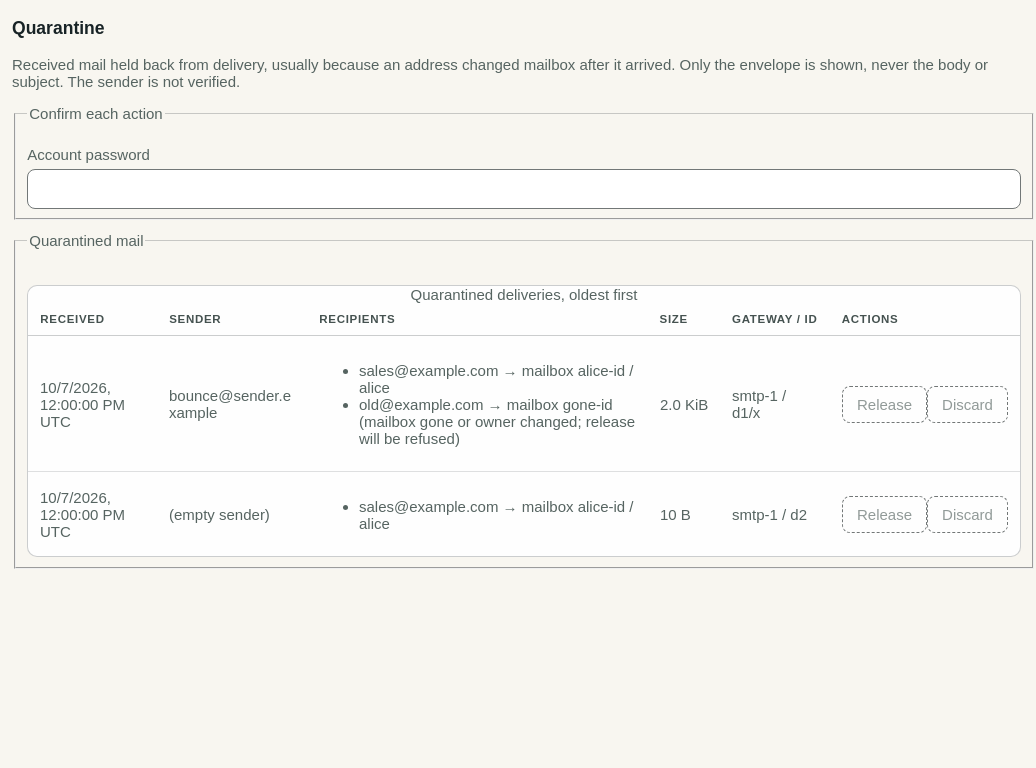
Test case: shows the 409 reason as returned, re-reads and restores controls
expect the text "bounce@sender.example" is shown: met, box top-left (157, 336), bottom-right (307, 472)
Type "account-secret" into the password field labelled "Account password" at (524, 189), box top-left (27, 169), bottom-right (1021, 209)
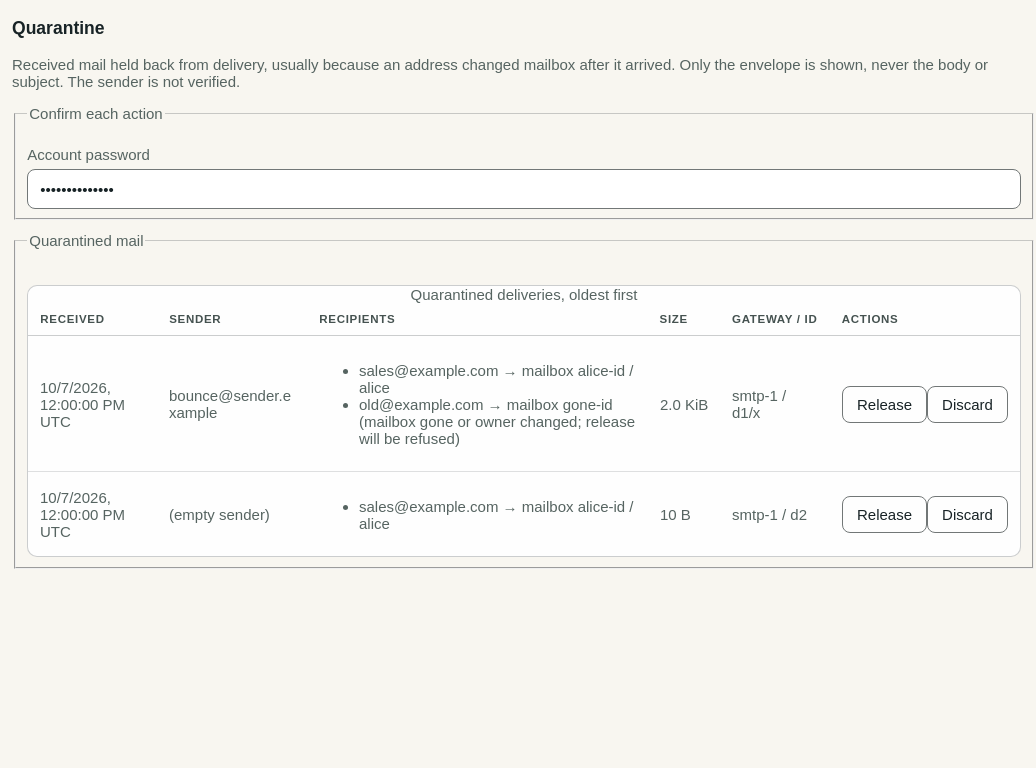
Click the button with aria-label "Release smtp-1 / d1/x" at (884, 404), box top-left (842, 386), bottom-right (927, 422)
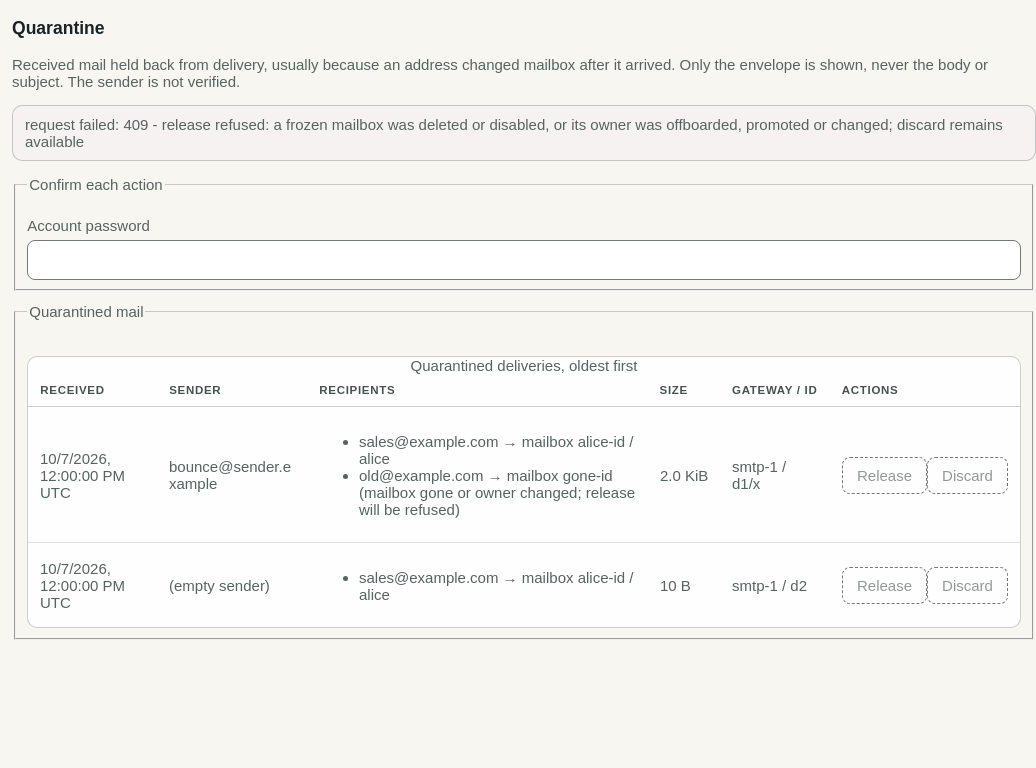
expect the element "Confirm each action" is enabled: met, box top-left (14, 176), bottom-right (1034, 292)
expect the message shows "request failed: 409 - release refused: a frozen mailbox was deleted or disabled, or its owner was offboarded, promoted or changed; discard remains available": met, box top-left (25, 116), bottom-right (1003, 150)
